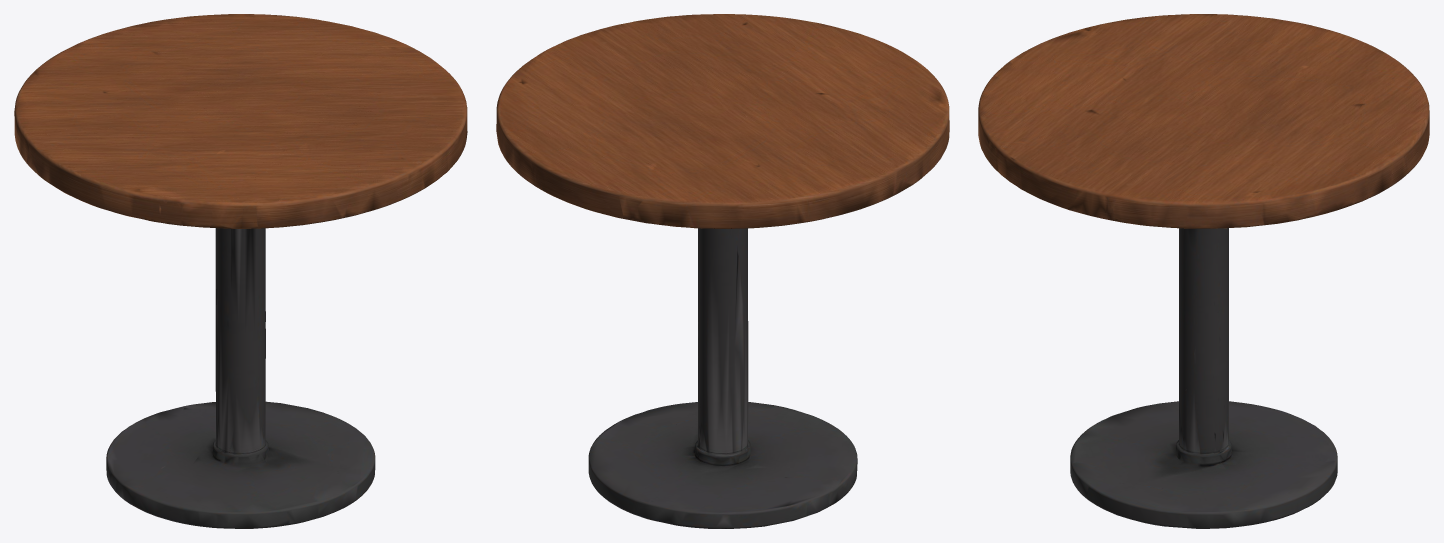
File: table-brown.glb
3 renders of one model, left to right at view 1: azimuth 30°, elevation 25°; view 2: azimuth 150°, elevation 25°; view 3: azimuth 270°, elevation 25°, orthographic.
Parts seen in each view (by area): view 1: node_0; view 2: node_0; view 3: node_0.
Part boxes in pixels (left/top/right/bottom): node_0: left=14, top=14, right=467, bottom=528; node_0: left=496, top=14, right=949, bottom=528; node_0: left=978, top=14, right=1429, bottom=528.
Bounding box in the file's own units: 0.8987 × 0.8012 × 0.8982.
Materials: 1 (1 with a texture image).
